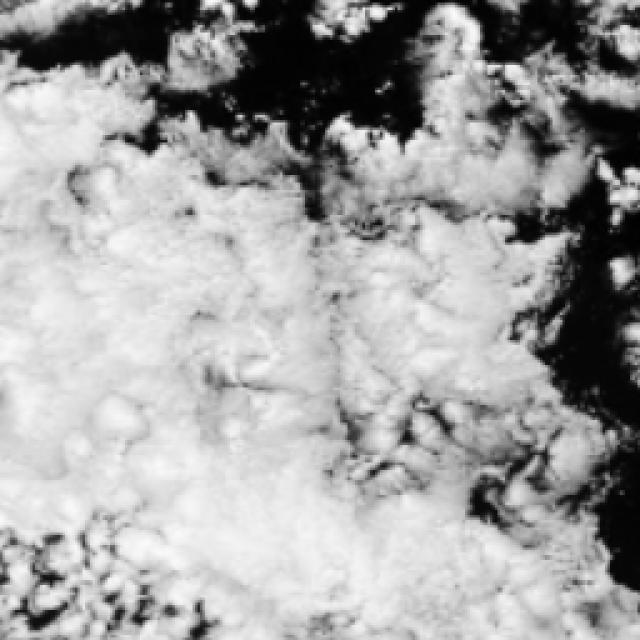CB: (160, 453, 320, 593), (0, 300, 143, 456), (0, 114, 123, 291), (137, 220, 304, 348), (315, 492, 451, 633), (352, 268, 495, 386)
